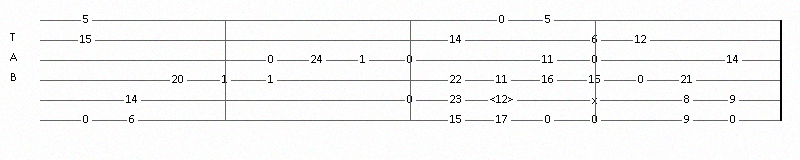0: (83, 114, 93, 126), (268, 54, 278, 66), (407, 94, 417, 106), (407, 54, 417, 66), (499, 14, 509, 26), (545, 114, 555, 126), (592, 54, 602, 66), (592, 114, 602, 126), (638, 74, 648, 86), (730, 114, 740, 126)
1: (222, 74, 232, 86), (268, 74, 278, 86), (360, 54, 370, 66)
11: (496, 74, 512, 86), (542, 54, 558, 66)
12: (635, 34, 651, 46)
14: (126, 94, 142, 106), (450, 34, 466, 46), (727, 54, 743, 66)
15: (80, 34, 96, 46), (450, 114, 466, 126), (589, 74, 605, 86)
16: (542, 74, 558, 86)
17: (496, 114, 512, 126)
20: (172, 74, 188, 86)
21: (681, 74, 697, 86)
22: (450, 74, 466, 86)
23: (450, 94, 466, 106)
24: (311, 54, 327, 66)
5: (83, 14, 93, 26), (545, 14, 555, 26)
6: (129, 114, 139, 126), (592, 34, 602, 46)
8: (684, 94, 694, 106)
9: (684, 114, 694, 126), (730, 94, 740, 106)
harmonic: (490, 94, 518, 106)
x: (592, 95, 601, 105)
